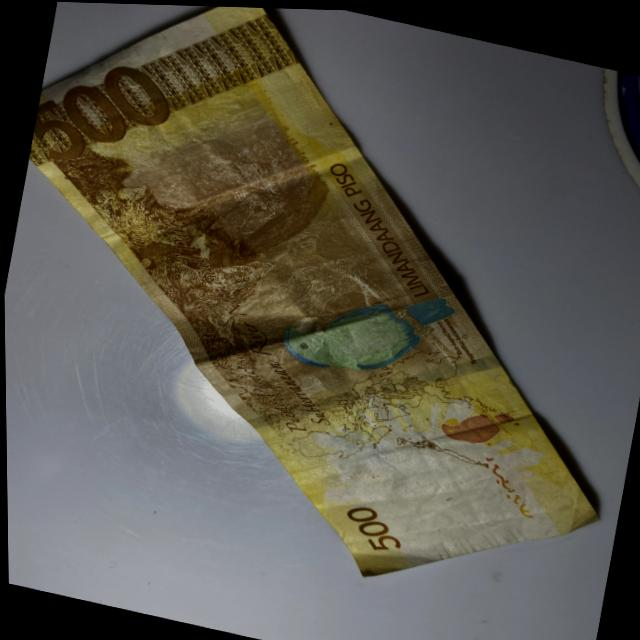500_big_parrot: (272, 261, 456, 390)
500_parrot_watermark: (439, 394, 515, 449)
value_watermark: (455, 507, 495, 535)
